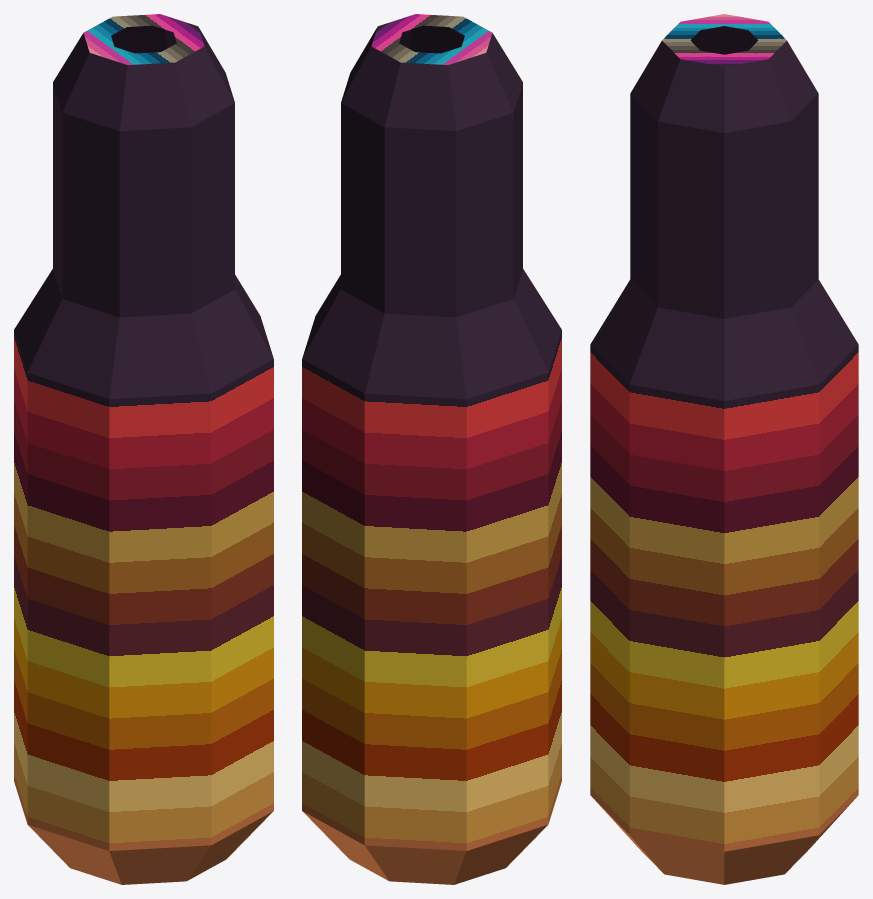
File: screwdriver_body.fbx
3 views of the same model, side by side, from view 1: azimuth 30°, elevation 25°; view 2: azimuth 150°, elevation 25°; view 3: azimuth 270°, elevation 25° (orthographic).
Visible parts, largest first — view 1: screw_body; view 2: screw_body; view 3: screw_body.
Boxes of the visible parts, x1,y1,x2,y2 form: screw_body: (14,14,273,884); screw_body: (302,14,561,884); screw_body: (590,14,858,884).
Bounding box in the file's own units: 200 × 665 × 200.
